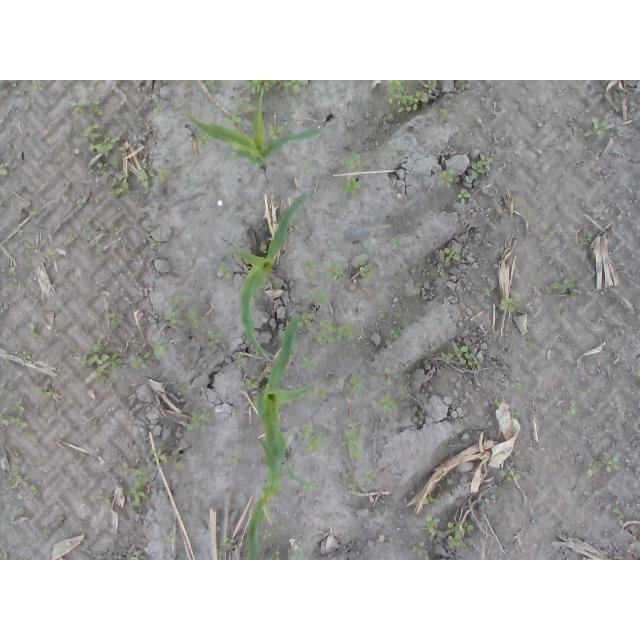Maize: (229, 192, 311, 354), (252, 313, 323, 487), (187, 89, 326, 168), (246, 432, 284, 560)
Weeds: (79, 339, 125, 391), (386, 80, 437, 114), (87, 160, 131, 198), (82, 120, 119, 156), (441, 341, 483, 371), (295, 422, 328, 454), (315, 318, 355, 344), (444, 519, 475, 550), (0, 399, 30, 430), (246, 81, 307, 96), (342, 426, 366, 461), (122, 460, 150, 488), (583, 115, 613, 137), (544, 276, 577, 296), (127, 486, 150, 514), (353, 254, 375, 283), (188, 408, 213, 432), (500, 291, 525, 314), (75, 98, 105, 116), (472, 154, 493, 179), (137, 168, 155, 197), (199, 326, 224, 346), (151, 338, 174, 359), (376, 392, 400, 412), (338, 151, 364, 169), (321, 260, 344, 280), (340, 176, 362, 196), (346, 371, 365, 394), (384, 145, 408, 163), (3, 464, 23, 485), (420, 516, 441, 535), (15, 90, 35, 109), (17, 200, 35, 221), (127, 352, 149, 369), (163, 292, 189, 306), (437, 168, 455, 188), (289, 540, 307, 560), (379, 368, 400, 385), (187, 305, 201, 330), (413, 541, 431, 560), (103, 311, 125, 326), (238, 375, 260, 390), (309, 289, 328, 306), (301, 356, 320, 373), (268, 121, 285, 139), (302, 257, 318, 276), (149, 447, 168, 463), (602, 457, 622, 472), (302, 477, 318, 495), (8, 505, 24, 523), (268, 517, 288, 531), (499, 468, 522, 480), (36, 384, 53, 400), (163, 308, 179, 325), (217, 263, 233, 279), (238, 97, 255, 112), (444, 247, 461, 262), (297, 313, 314, 328), (423, 494, 442, 507), (223, 113, 243, 125), (224, 451, 240, 466), (347, 479, 364, 493), (25, 242, 36, 263), (157, 169, 172, 184), (457, 188, 471, 204), (612, 508, 629, 521), (362, 472, 379, 485), (259, 529, 277, 540), (196, 134, 211, 147), (391, 237, 406, 250), (314, 390, 329, 403), (27, 322, 39, 338), (439, 108, 450, 124), (219, 537, 235, 548), (166, 531, 177, 546), (235, 354, 246, 369), (1, 161, 12, 176), (248, 395, 259, 410), (95, 495, 113, 504), (301, 160, 313, 173), (457, 80, 470, 92), (587, 461, 598, 475), (150, 236, 162, 248), (44, 249, 57, 260), (130, 552, 147, 560), (509, 408, 521, 419), (388, 329, 400, 340), (66, 235, 77, 246), (108, 222, 119, 233), (615, 402, 625, 414), (31, 80, 43, 90), (571, 399, 578, 416), (511, 382, 524, 391), (252, 342, 260, 356), (0, 549, 10, 560), (522, 341, 533, 351), (21, 350, 32, 360), (491, 399, 501, 410), (540, 220, 552, 229), (132, 339, 142, 349), (399, 385, 409, 395), (259, 243, 269, 253), (583, 232, 593, 242), (155, 104, 164, 115), (436, 265, 445, 276), (1, 382, 8, 395), (131, 270, 141, 279), (232, 406, 241, 416), (216, 547, 225, 557), (507, 164, 516, 174), (259, 370, 270, 378), (572, 125, 580, 135), (274, 550, 282, 560), (96, 244, 104, 253), (175, 463, 185, 470), (205, 80, 216, 86), (329, 556, 345, 560), (485, 288, 492, 297), (29, 485, 36, 492), (78, 200, 87, 205), (180, 387, 187, 393), (635, 369, 640, 376), (272, 284, 279, 289), (1, 80, 8, 84), (168, 557, 176, 560)
